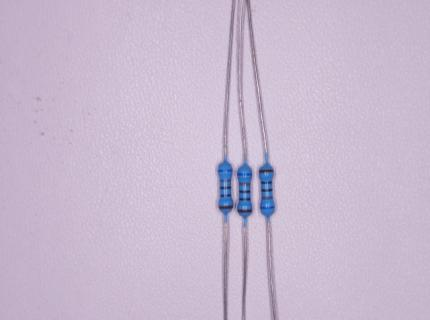Black band: (261, 181, 273, 184), (261, 189, 273, 192), (239, 190, 251, 193), (220, 194, 231, 197), (220, 187, 231, 190), (239, 198, 251, 200)
Blue band: (217, 169, 232, 172), (237, 173, 252, 176), (260, 206, 275, 209)
Brown band: (218, 205, 234, 209), (237, 209, 252, 213), (259, 169, 274, 173)
Grey band: (220, 178, 231, 183), (239, 182, 251, 186), (262, 196, 273, 200)
